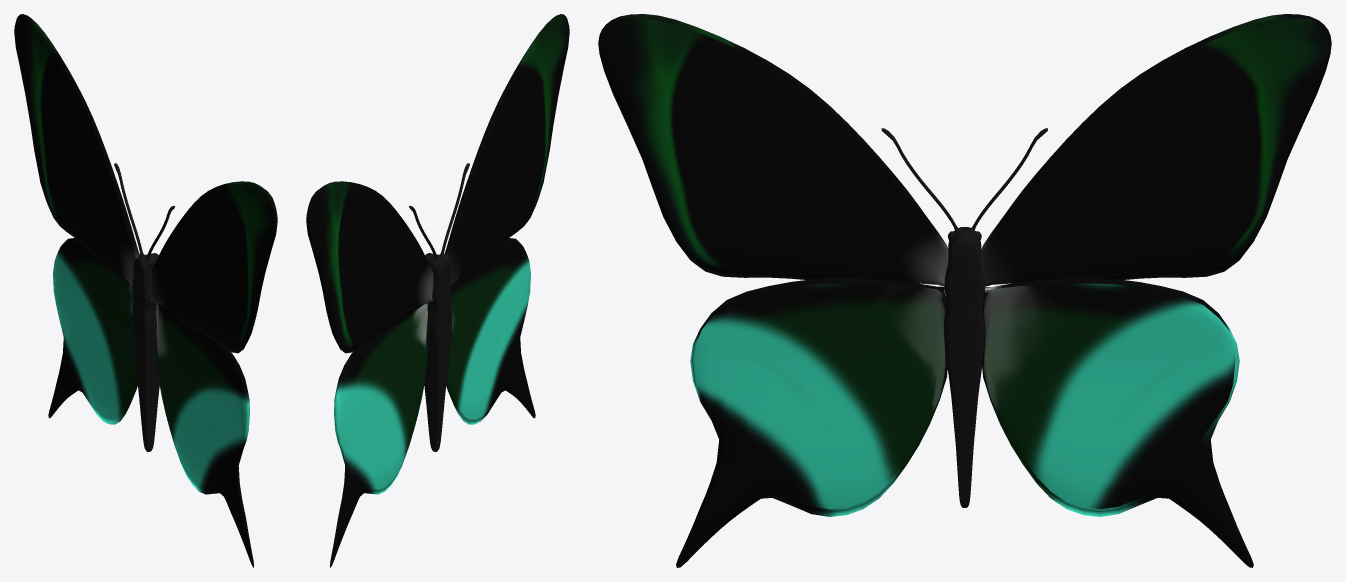
The model's file is ButterflyModel_PapilioParis.fbx.
3 renders of one model, left to right at view 1: azimuth 30°, elevation 25°; view 2: azimuth 150°, elevation 25°; view 3: azimuth 270°, elevation 25°, orthographic. The views are drawn at different scales.
Visible parts, largest first — view 1: polySurface2, polySurface4, polySurface3; view 2: polySurface4, polySurface2, polySurface3; view 3: polySurface4, polySurface2, polySurface3.
Part boxes in pixels (x1,y1,x2,y2): polySurface2: (150, 181, 277, 567); polySurface4: (14, 14, 139, 424); polySurface3: (114, 163, 175, 451); polySurface4: (306, 181, 433, 567); polySurface2: (444, 14, 569, 424); polySurface3: (409, 163, 469, 451); polySurface4: (981, 14, 1331, 567); polySurface2: (598, 14, 948, 567); polySurface3: (881, 128, 1047, 507).
Bounding box in the file's own units: 0.6855 × 12.13 × 14.65.
